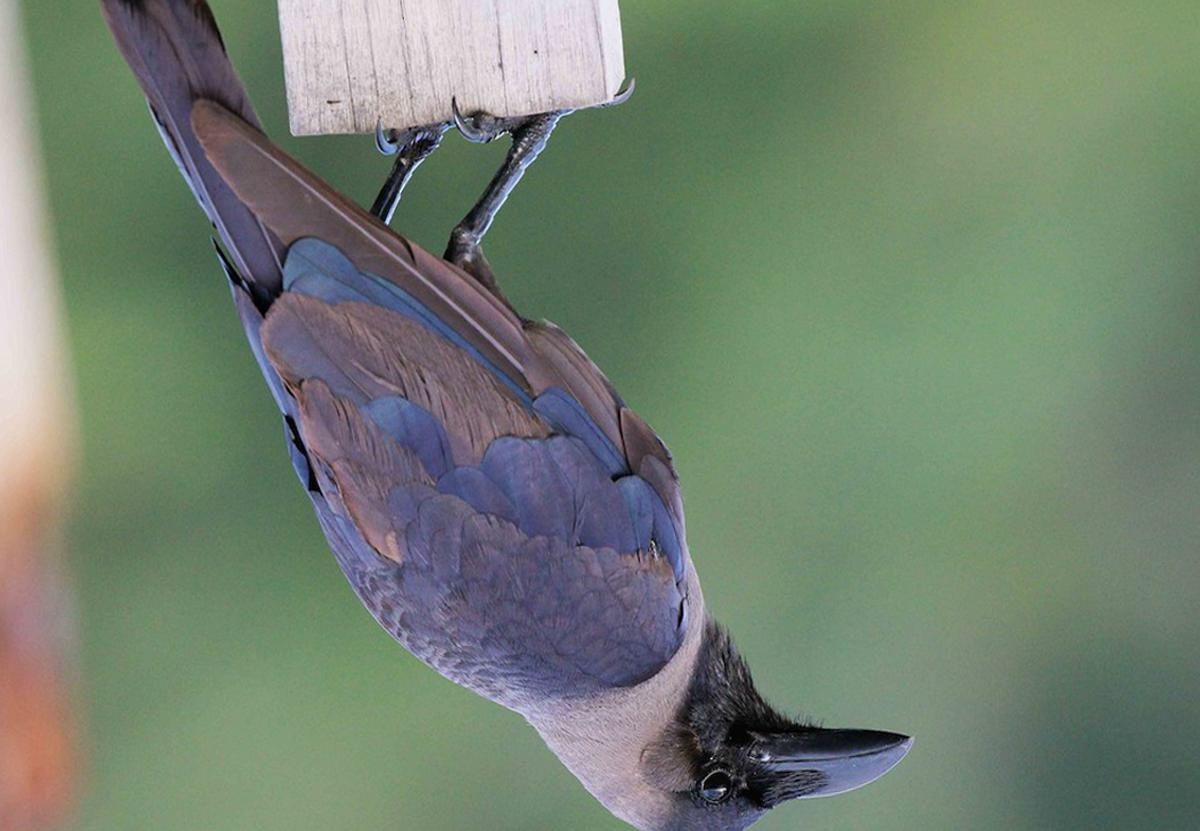crow: (75, 1, 918, 824)
